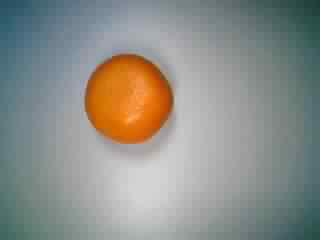orange: (81, 52, 176, 146)
